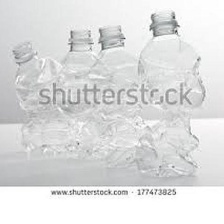bottle: (135, 6, 213, 179), (86, 19, 148, 171), (5, 32, 73, 161), (52, 23, 111, 164)
